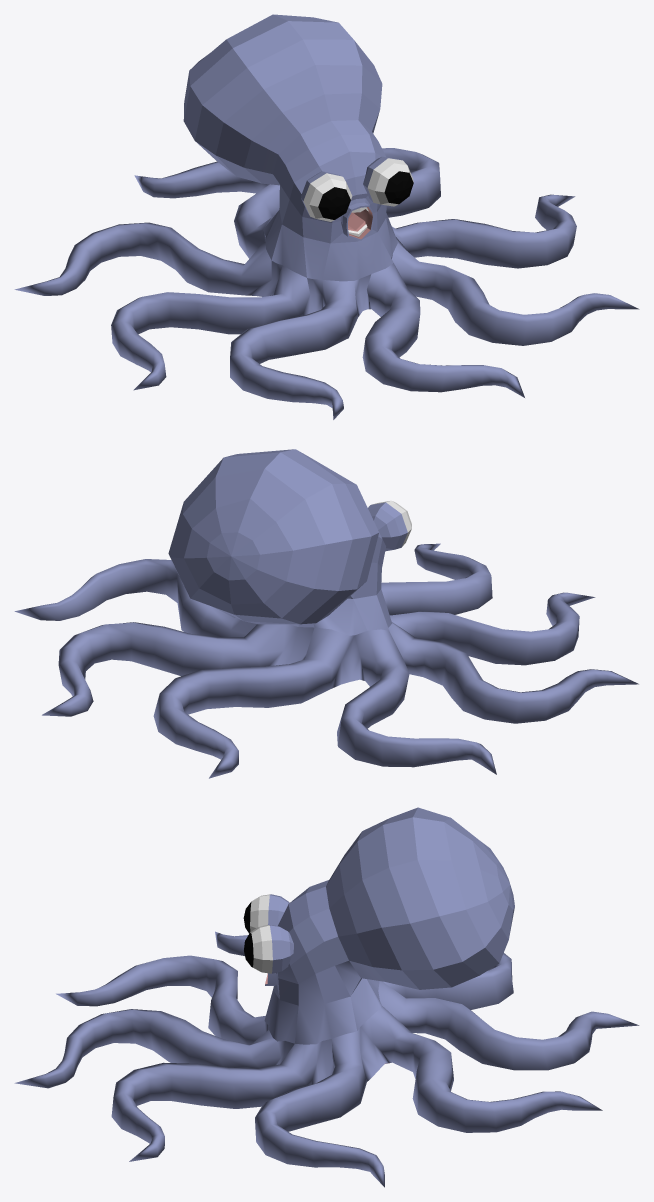
File: rigged kraken.fbx
The picture shows the model from 3 angles, top to bottom: view 1: azimuth 30°, elevation 25°; view 2: azimuth 150°, elevation 25°; view 3: azimuth 270°, elevation 25°; orthographic projection. The views are drawn at different scales.
Visible parts, largest first — view 1: the_kraken, Leye, Reye; view 2: the_kraken, Reye; view 3: the_kraken, Leye, Reye.
Part boxes in pixels (x1,y1,x2,y2): the_kraken: (14,14,639,419); Leye: (363,156,413,206); Reye: (301,171,352,221); the_kraken: (14,449,638,778); Reye: (368,500,411,551); the_kraken: (14,807,639,1187); Leye: (244,924,293,973); Reye: (243,894,289,933).
Size of the model in its own units: 23.51 by 10.45 by 23.9.
